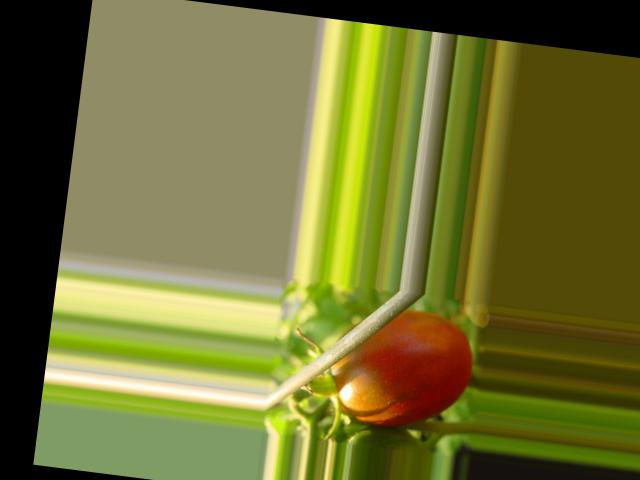tomato: (325, 302, 477, 434)
